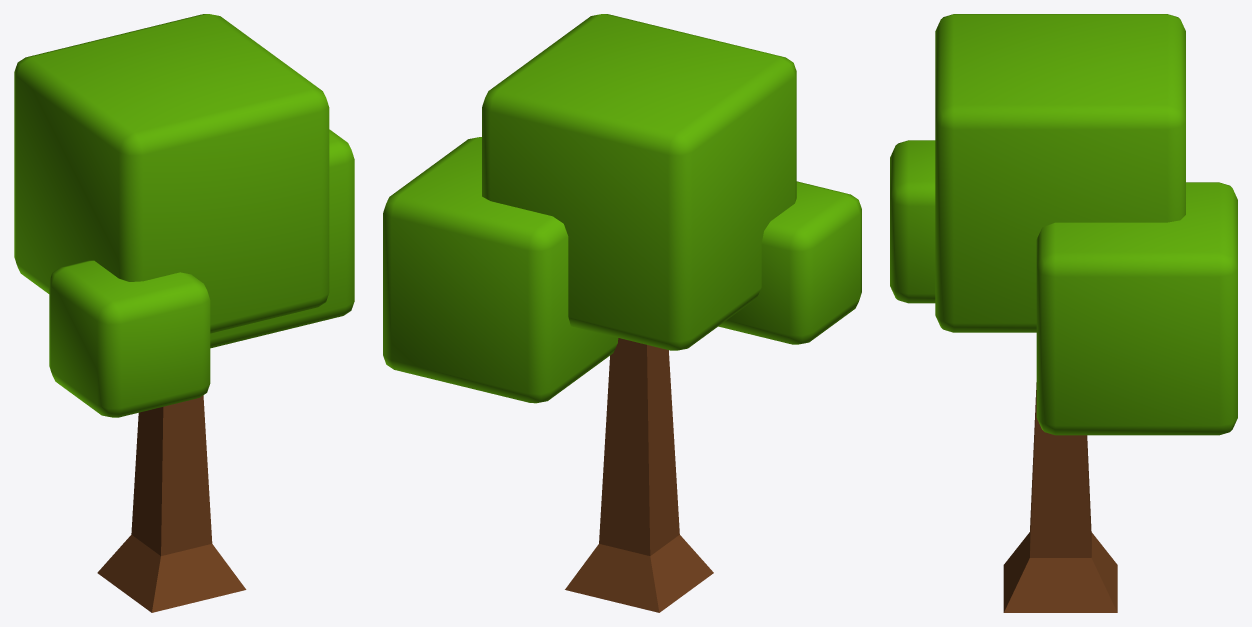
The model's file is Tree.fbx.
The picture shows the model from 3 angles, left to right: view 1: azimuth 30°, elevation 25°; view 2: azimuth 150°, elevation 25°; view 3: azimuth 270°, elevation 25°; orthographic projection. The views are drawn at different scales.
Visible parts, largest first — view 1: Tree; view 2: Tree; view 3: Tree.
Boxes of the visible parts, left/top/right/bottom form: Tree: left=14, top=14, right=354, bottom=612; Tree: left=383, top=14, right=861, bottom=612; Tree: left=890, top=14, right=1237, bottom=612.
Bounding box in the file's own units: 1.1 × 1.64 × 0.9801.
